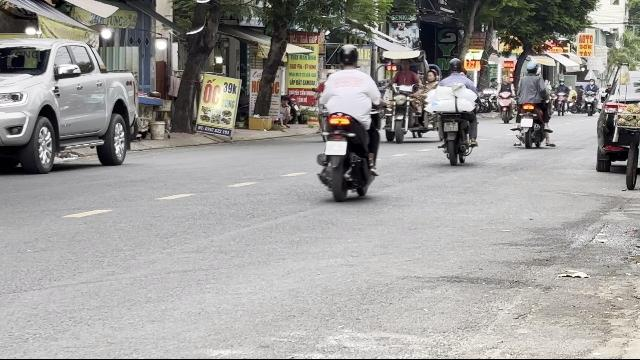helmet: (337, 44, 359, 68)
licenseplate: (325, 142, 347, 154)
motorcyclist: (313, 42, 383, 200)
